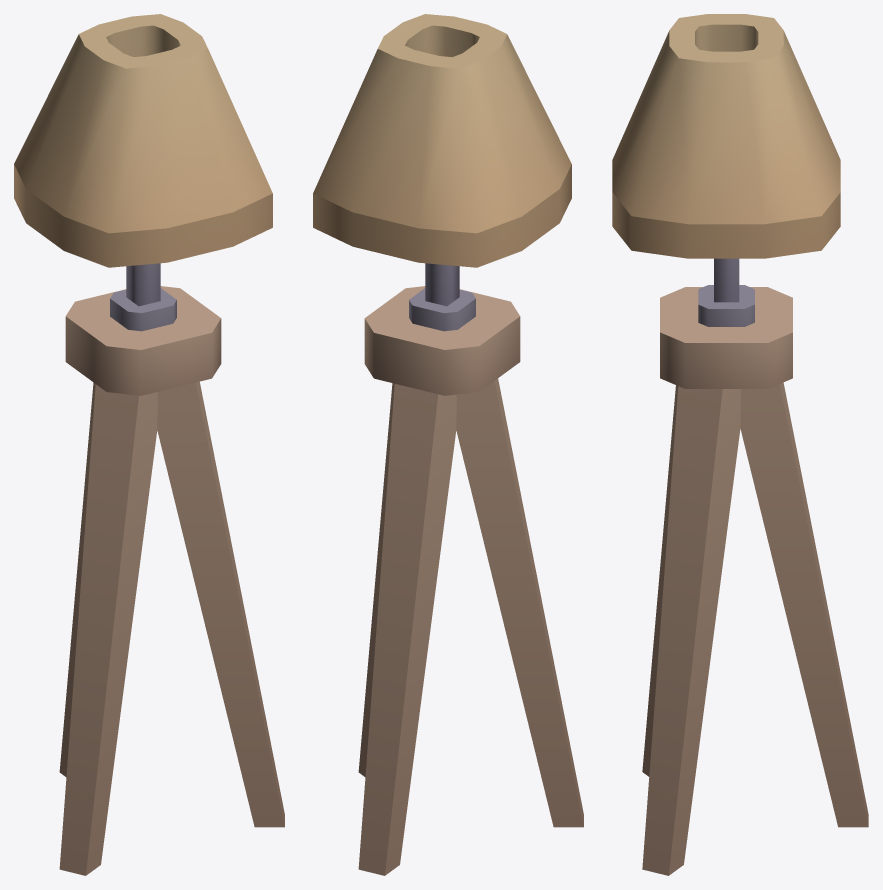
Rendered from lamp-standard-tripod.glb.
The picture shows the model from 3 angles, left to right: view 1: azimuth 30°, elevation 25°; view 2: azimuth 150°, elevation 25°; view 3: azimuth 270°, elevation 25°; orthographic projection.
Visible parts, largest first — view 1: lamp-standard-tripod; view 2: lamp-standard-tripod; view 3: lamp-standard-tripod.
Boxes of the visible parts, <box> form: lamp-standard-tripod: <box>14,14,284,875</box>; lamp-standard-tripod: <box>313,14,583,875</box>; lamp-standard-tripod: <box>612,14,868,875</box>.
Size of the model in its own units: 0.2575 by 0.8512 by 0.2525.
